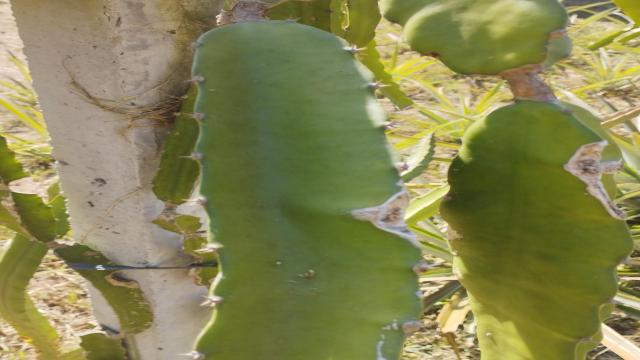stemcanker: (296, 267, 319, 282), (269, 250, 286, 266)
